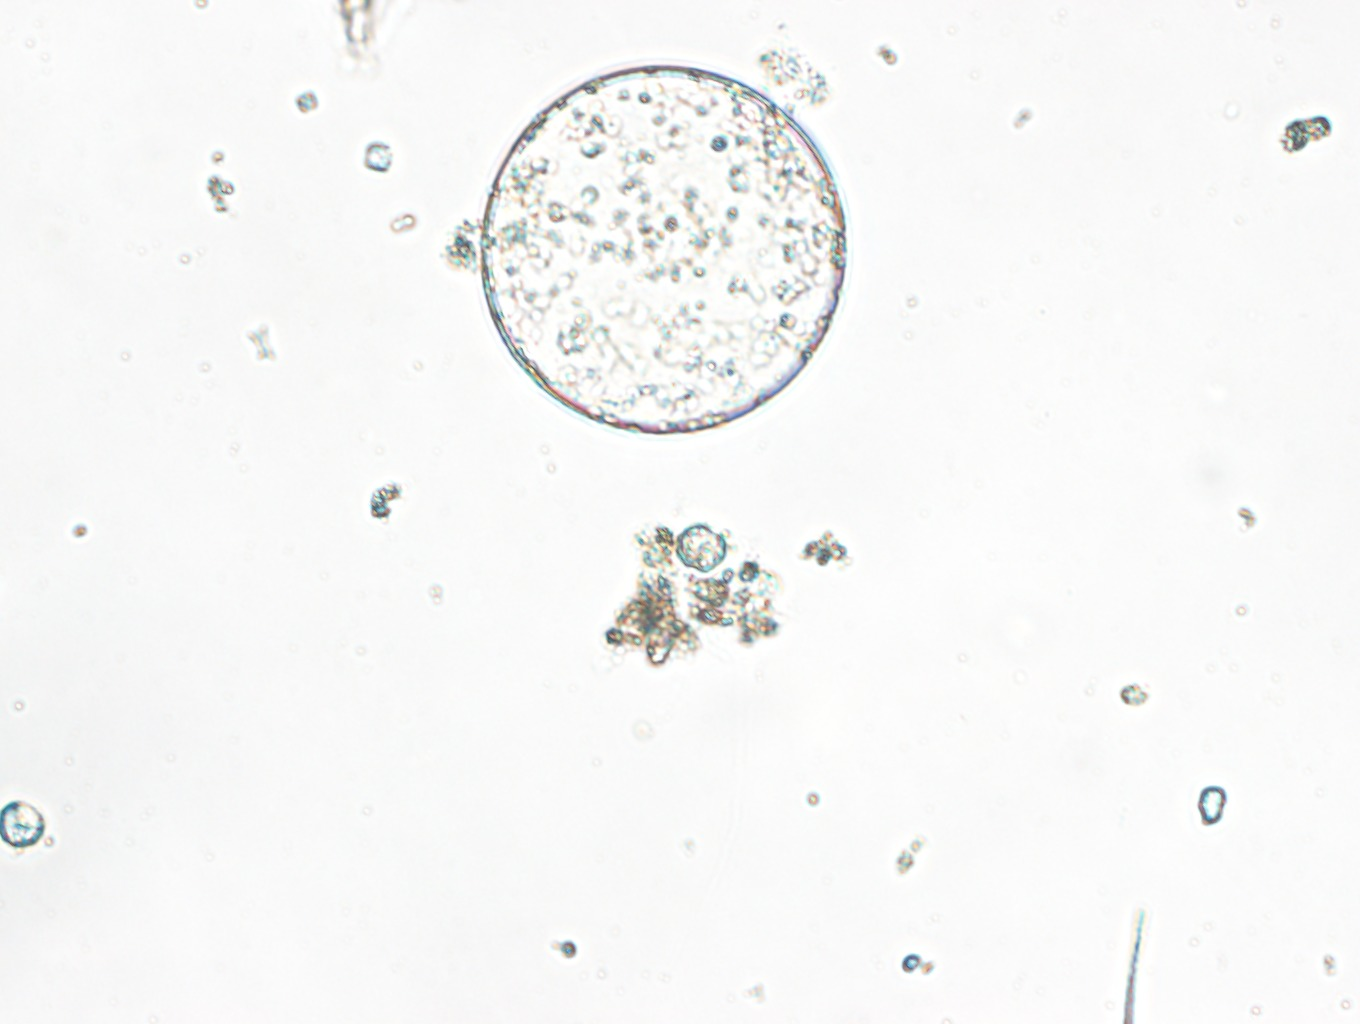coscinodiscus: (479, 61, 848, 436)
